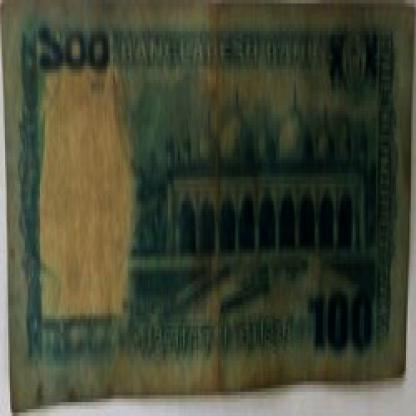one hundred taka: (35, 17, 123, 87), (308, 284, 376, 364)
